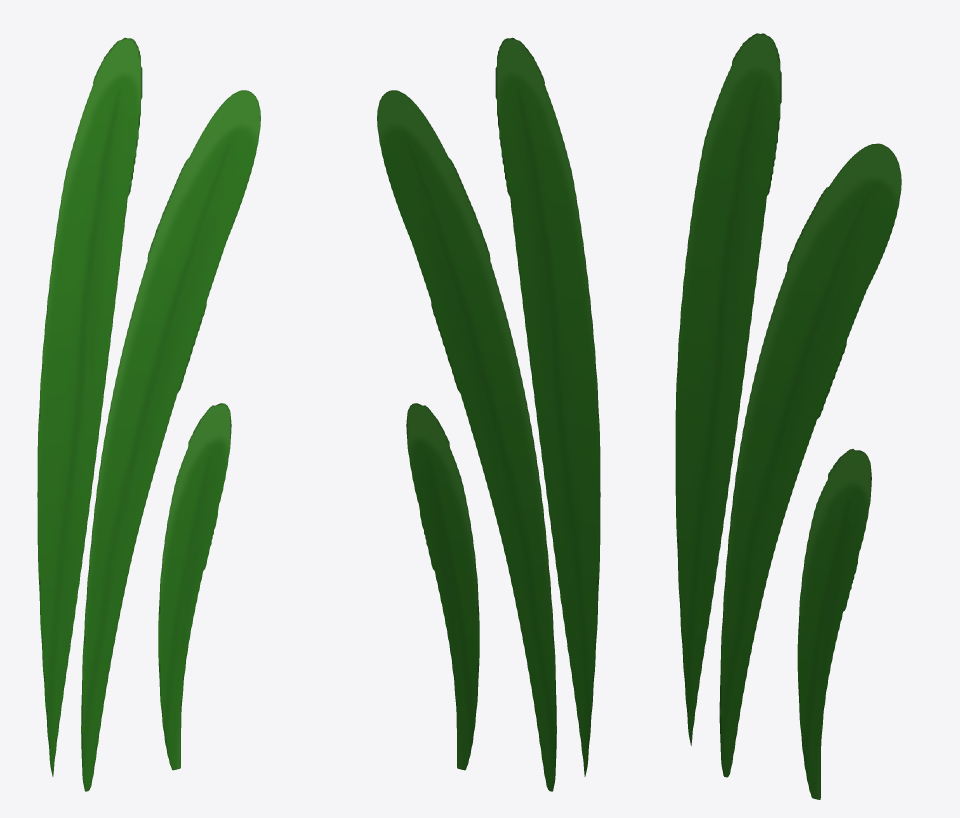
File: sm_env_grass_5.fbx
3 views of the same model, side by side, from view 1: azimuth 30°, elevation 25°; view 2: azimuth 150°, elevation 25°; view 3: azimuth 330°, elevation 25° (orthographic).
Parts seen in each view (by area): view 1: grass_5; view 2: grass_5; view 3: grass_5.
Boxes of the visible parts, x1,y1,x2,y2 form: grass_5: (37, 37, 260, 791); grass_5: (377, 37, 600, 791); grass_5: (675, 33, 901, 799).
Bounding box in the file's own units: 12.06 × 30 × 0.
